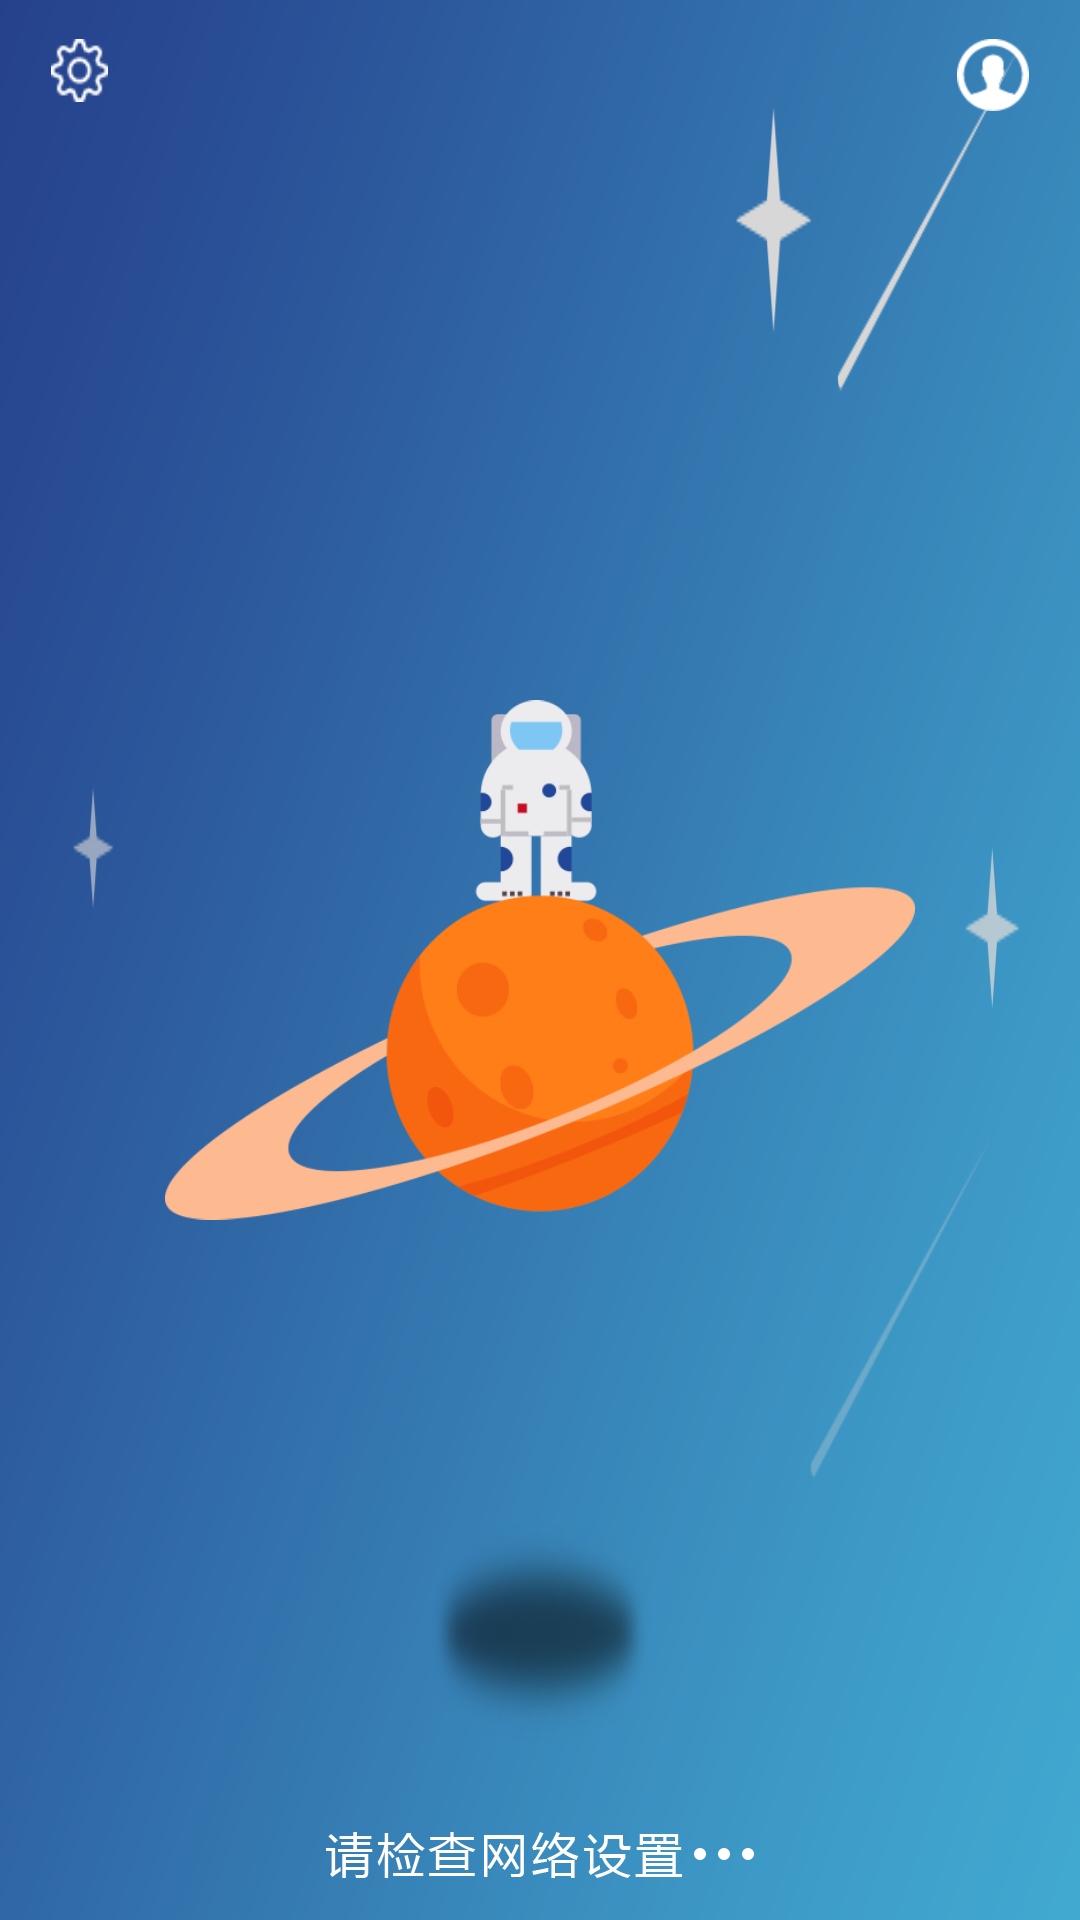

Icon click points for this 1080px x 1920px phone screenshot, format (x,y):
maintologin: (993,75)
